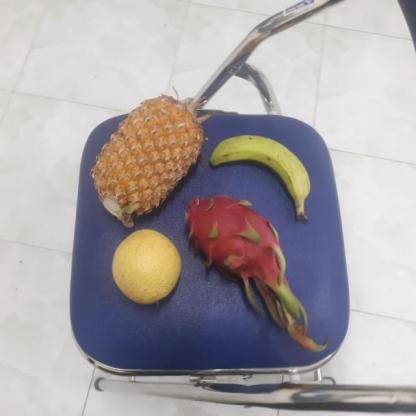banana: (206, 134, 311, 215)
pear: (108, 230, 183, 308)
pineapple: (87, 96, 202, 226)
pitaya: (178, 196, 288, 290)
